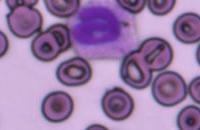N: (68, 0, 137, 59)
